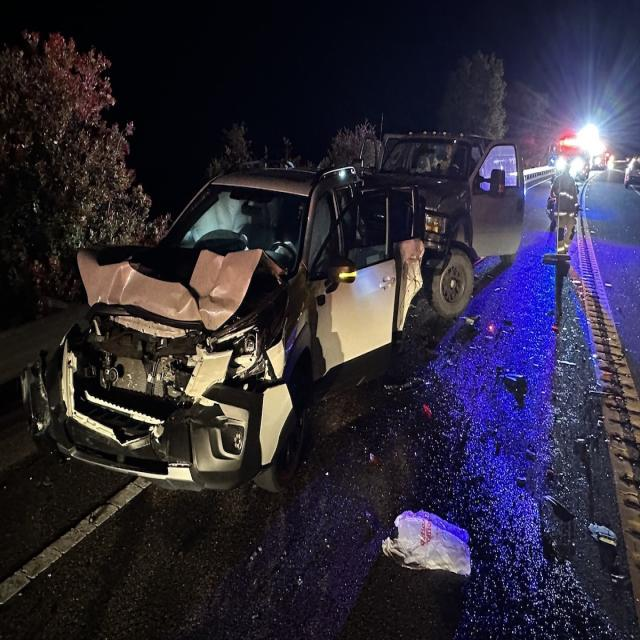Accident: (13, 130, 527, 488)
